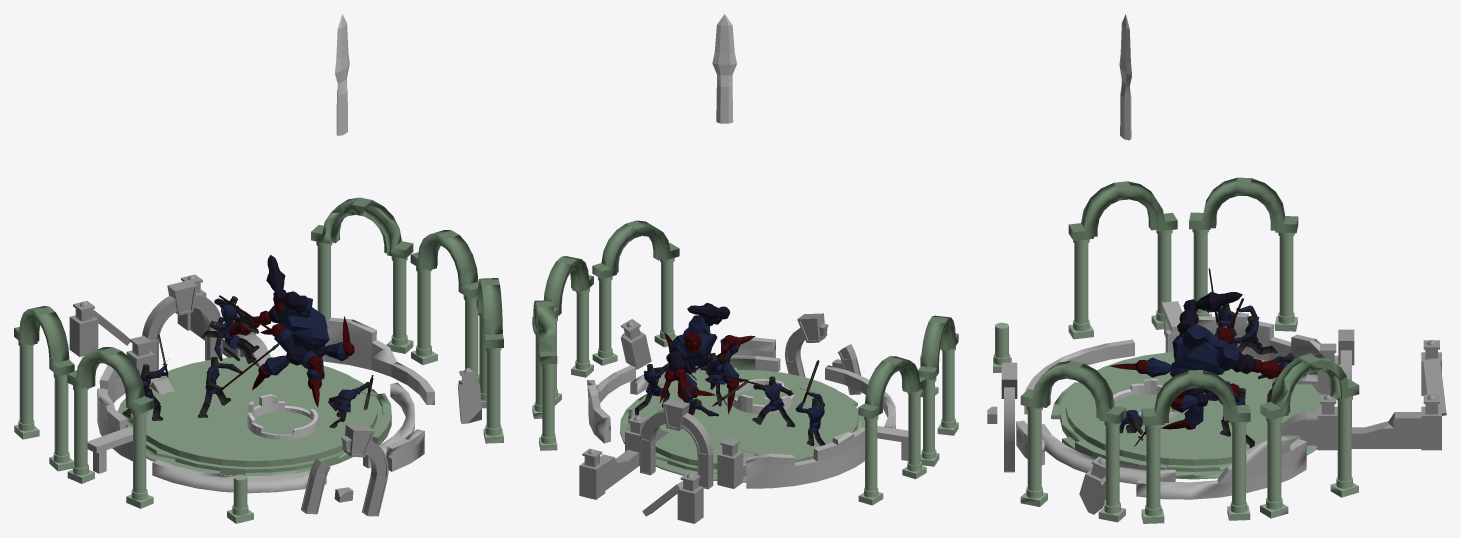
3 renders of one model, left to right at view 1: azimuth 30°, elevation 25°; view 2: azimuth 150°, elevation 25°; view 3: azimuth 270°, elevation 25°, orthographic. The views are drawn at different scales.
Visible parts, largest first — view 1: Ruins_Platform_mesh_Platform_10928Platform, Pillars_mesh_Arches_11222Arches.006, Entrance_mesh_Entrance_11062Entrance, Arches_mesh_Arches_11222Arches, Ruins_Outer_mesh_Platform_10928Platform.002, Monster_Upper_Torso_Armor_Cylinder.002, Ruins_Inner_mesh_Platform_10928Platform.001, Tip_Cylinder.001, Forearm_Right.001_Armor_Cylinder.028; view 2: Entrance_mesh_Entrance_11062Entrance, Ruins_Platform_mesh_Platform_10928Platform, Pillars_mesh_Arches_11222Arches.006, Ruins_Outer_mesh_Platform_10928Platform.002, Arches_mesh_Arches_11222Arches, Tip_Cylinder.001, Monster_Upper_Torso_Armor_Cylinder.002, Ruins_Inner_mesh_Platform_10928Platform.001, Forearm_Right.001_Armor_Cylinder.028; view 3: Pillars_mesh_Arches_11222Arches.006, Arches_mesh_Arches_11222Arches, Ruins_Platform_mesh_Platform_10928Platform, Entrance_mesh_Entrance_11062Entrance, Ruins_Outer_mesh_Platform_10928Platform.002, Monster_Upper_Torso_Armor_Cylinder.002, Tip_Cylinder.001, Forearm_Right.001_Armor_Cylinder.028, Ruins_Inner_mesh_Platform_10928Platform.001.
Boxes of the visible parts, x1=… form: Ruins_Platform_mesh_Platform_10928Platform: x1=117, y1=356, x2=391, y2=476; Pillars_mesh_Arches_11222Arches.006: x1=14, y1=241, x2=503, y2=523; Entrance_mesh_Entrance_11062Entrance: x1=69, y1=274, x2=481, y2=516; Arches_mesh_Arches_11222Arches: x1=14, y1=197, x2=503, y2=413; Ruins_Outer_mesh_Platform_10928Platform.002: x1=87, y1=317, x2=434, y2=493; Monster_Upper_Torso_Armor_Cylinder.002: x1=279, y1=295, x2=329, y2=350; Ruins_Inner_mesh_Platform_10928Platform.001: x1=247, y1=394, x2=318, y2=439; Tip_Cylinder.001: x1=335, y1=14, x2=349, y2=135; Forearm_Right.001_Armor_Cylinder.028: x1=266, y1=255, x2=287, y2=302; Entrance_mesh_Entrance_11062Entrance: x1=579, y1=313, x2=861, y2=523; Ruins_Platform_mesh_Platform_10928Platform: x1=620, y1=358, x2=864, y2=482; Pillars_mesh_Arches_11222Arches.006: x1=532, y1=258, x2=958, y2=505; Ruins_Outer_mesh_Platform_10928Platform.002: x1=587, y1=337, x2=908, y2=488; Arches_mesh_Arches_11222Arches: x1=532, y1=220, x2=958, y2=418; Tip_Cylinder.001: x1=712, y1=14, x2=736, y2=123; Monster_Upper_Torso_Armor_Cylinder.002: x1=668, y1=315, x2=717, y2=366; Ruins_Inner_mesh_Platform_10928Platform.001: x1=732, y1=379, x2=794, y2=413; Forearm_Right.001_Armor_Cylinder.028: x1=687, y1=303, x2=730, y2=320; Pillars_mesh_Arches_11222Arches.006: x1=993, y1=229, x2=1358, y2=523; Arches_mesh_Arches_11222Arches: x1=1020, y1=177, x2=1359, y2=425; Ruins_Platform_mesh_Platform_10928Platform: x1=1051, y1=352, x2=1321, y2=479; Entrance_mesh_Entrance_11062Entrance: x1=987, y1=329, x2=1446, y2=514; Ruins_Outer_mesh_Platform_10928Platform.002: x1=1016, y1=301, x2=1321, y2=499; Monster_Upper_Torso_Armor_Cylinder.002: x1=1169, y1=323, x2=1239, y2=376; Tip_Cylinder.001: x1=1119, y1=14, x2=1131, y2=140; Forearm_Right.001_Armor_Cylinder.028: x1=1183, y1=291, x2=1242, y2=311; Ruins_Inner_mesh_Platform_10928Platform.001: x1=1113, y1=378, x2=1179, y2=418.
Size of the model in its own units: 75.03 by 80.41 by 71.31.
